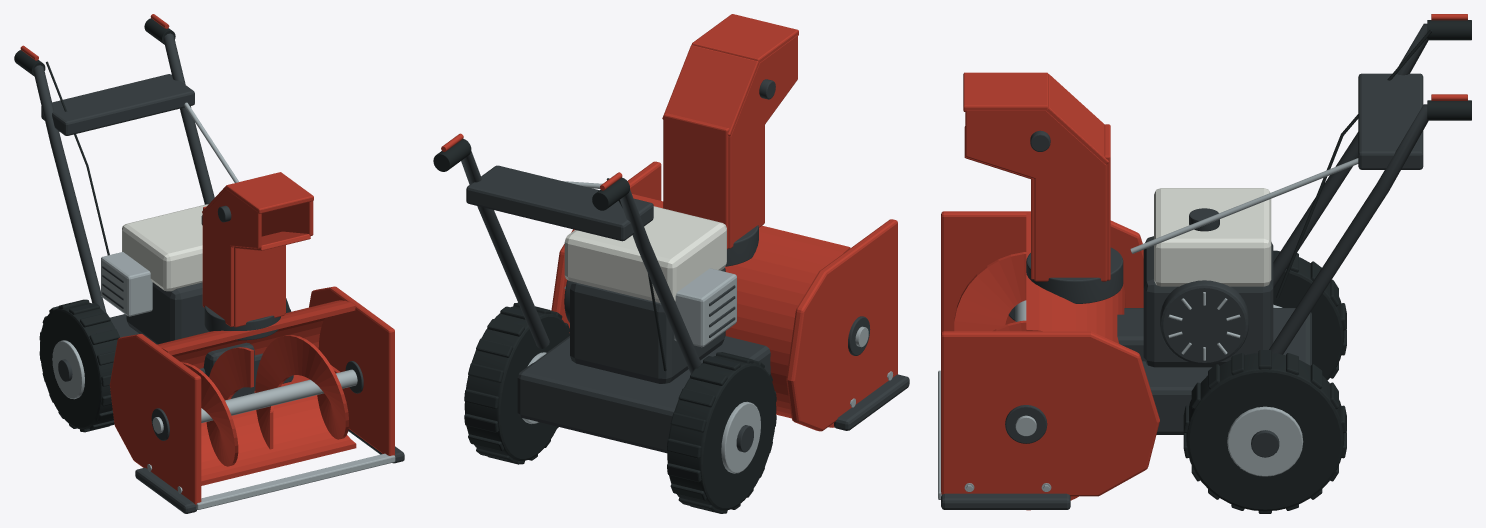
File: city-two-stage-snow-blower.glb
3 renders of one model, left to right at view 1: azimuth 30°, elevation 25°; view 2: azimuth 150°, elevation 25°; view 3: azimuth 270°, elevation 25°, orthographic. The views are drawn at different scales.
Visible parts, largest first — view 1: Assembly | Red machine enamel, Assembly | Dark powder coated steel, Assembly | Brushed stainless fittings, Assembly | Charcoal flexible rubber, Assembly | Ivory polymer; view 2: Assembly | Red machine enamel, Assembly | Dark powder coated steel, Assembly | Charcoal flexible rubber, Assembly | Ivory polymer, Assembly | Brushed stainless fittings; view 3: Assembly | Red machine enamel, Assembly | Dark powder coated steel, Assembly | Charcoal flexible rubber, Assembly | Ivory polymer, Assembly | Brushed stainless fittings.
Part boxes in pixels (<box>): Assembly | Red machine enamel: <box>20,14,394,504</box>; Assembly | Dark powder coated steel: <box>33,33,404,513</box>; Assembly | Brushed stainless fittings: <box>52,102,395,509</box>; Assembly | Charcoal flexible rubber: <box>14,18,291,432</box>; Assembly | Ivory polymer: <box>122,204,208,291</box>; Assembly | Red machine enamel: <box>441,14,897,431</box>; Assembly | Dark powder coated steel: <box>461,79,909,453</box>; Assembly | Charcoal flexible rubber: <box>433,139,776,513</box>; Assembly | Ivory polymer: <box>564,206,726,302</box>; Assembly | Brushed stainless fittings: <box>522,181,893,473</box>; Assembly | Red machine enamel: <box>941,14,1467,510</box>; Assembly | Dark powder coated steel: <box>941,23,1428,509</box>; Assembly | Charcoal flexible rubber: <box>1183,20,1471,513</box>; Assembly | Ivory polymer: <box>1154,188,1271,286</box>; Assembly | Brushed stainless fittings: <box>938,158,1358,499</box>.
Bounding box in the file's own units: 0.797 × 1.09 × 1.32.
